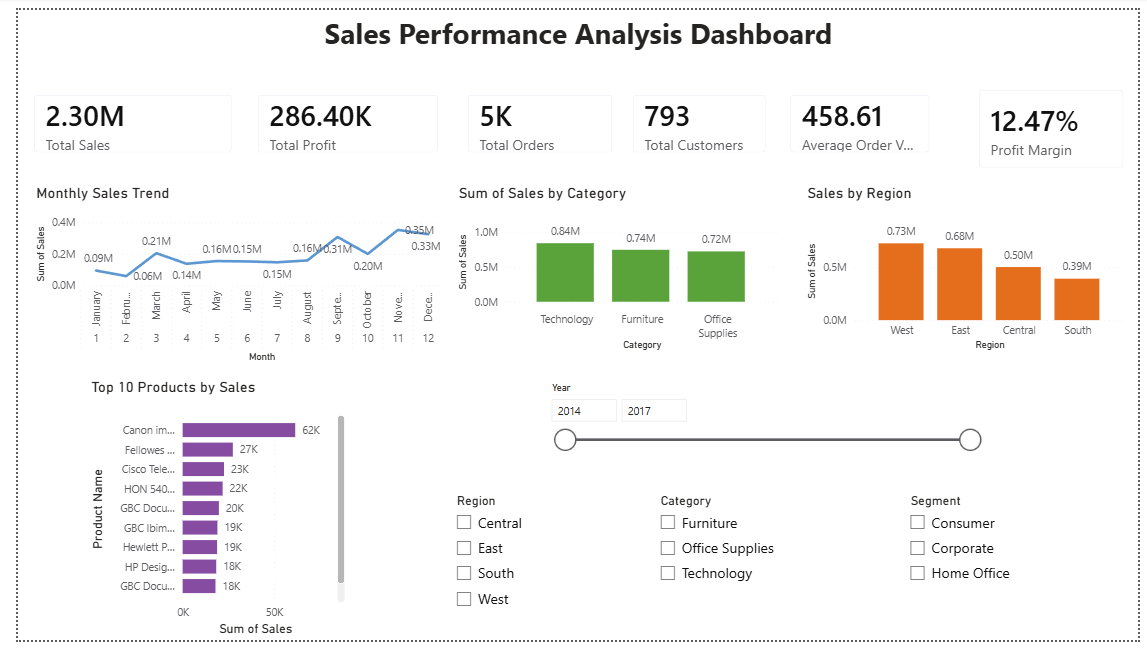

This screenshot's page, from the dashboard's own definition file:
{"tool":"powerbi","page":{"name":"Page 1","canvas":[1280,720],"ordinal":0},"visuals":[{"type":"cardVisual","fields":{"Data":["Superstore.Total Sales"]},"box":[1.3,80.7,260.9,100.9],"z":0},{"type":"cardVisual","fields":{"Data":["Superstore.Total Profit"]},"box":[256.9,80.7,240.7,100.9],"z":1000},{"type":"cardVisual","fields":{"Data":["Superstore.Total Orders"]},"box":[497.6,80.7,199,100.9],"z":2000},{"type":"cardVisual","fields":{"Data":["Superstore.Total Customers"]},"box":[685.9,80.7,186.9,100.9],"z":3000},{"type":"cardVisual","fields":{"Data":["Superstore.Average Order Value"]},"box":[866.1,80.7,193.7,100.9],"z":4000},{"type":"cardVisual","fields":{"Data":["Month Num.Profit Margin"]},"box":[1081.2,74,199,123.7],"z":5000},{"type":"textbox","box":[282.3,0,715.4,53.8],"z":6000},{"type":"lineChart","title":"Monthly Sales Trend","fields":{"Y":["Sum(Superstore.Sales)"],"Category":["Month Num.Month Num","Month Num.Month"]},"box":[15.9,198.1,472,209.1],"z":7000},{"type":"clusteredColumnChart","fields":{"Category":["Superstore.Category"],"Y":["Sum(Superstore.Sales)"]},"box":[498.9,198.1,375.4,195.7],"z":8000},{"type":"clusteredColumnChart","title":"Sales by Region","fields":{"Category":["Superstore.Region"],"Y":["Sum(Superstore.Sales)"]},"box":[897.6,198.1,373,195.7],"z":9000},{"type":"barChart","title":"Top 10 Products by Sales","fields":{"Category":["Superstore.Product Name"],"Y":["Sum(Superstore.Sales)"]},"box":[78,419.6,299.9,299.9],"z":10000},{"type":"slicer","fields":{"Values":["Month Num.Year"]},"box":[597.1,419.6,512.4,104.9],"z":11000},{"type":"slicer","fields":{"Values":["Month Num.Region"]},"box":[488.2,547.3,217.9,150.6],"z":12000},{"type":"slicer","fields":{"Values":["Month Num.Category"]},"box":[720.8,547.3,228.6,150.6],"z":13000},{"type":"slicer","fields":{"Values":["Month Num.Segment"]},"box":[1007.3,547.3,232.7,150.6],"z":14000}]}

Visuals, with their boxes in screenshot pixels (x1, y1, x2, y2), scaled from the page's 1280x720 canvas onto the 1147x658 screenshot:
cardVisual - Superstore.Total Sales: detection(1, 74, 235, 166)
cardVisual - Superstore.Total Profit: detection(230, 74, 446, 166)
cardVisual - Superstore.Total Orders: detection(446, 74, 624, 166)
cardVisual - Superstore.Total Customers: detection(615, 74, 782, 166)
cardVisual - Superstore.Average Order Value: detection(776, 74, 950, 166)
cardVisual - Month Num.Profit Margin: detection(969, 68, 1146, 181)
textbox: detection(253, 0, 894, 49)
"Monthly Sales Trend" lineChart: detection(14, 181, 437, 372)
clusteredColumnChart - Superstore.Category x Sum(Superstore.Sales): detection(447, 181, 783, 360)
"Sales by Region" clusteredColumnChart: detection(804, 181, 1139, 360)
"Top 10 Products by Sales" barChart: detection(70, 383, 339, 657)
slicer - Month Num.Year: detection(535, 383, 994, 479)
slicer - Month Num.Region: detection(437, 500, 633, 638)
slicer - Month Num.Category: detection(646, 500, 851, 638)
slicer - Month Num.Segment: detection(903, 500, 1111, 638)
